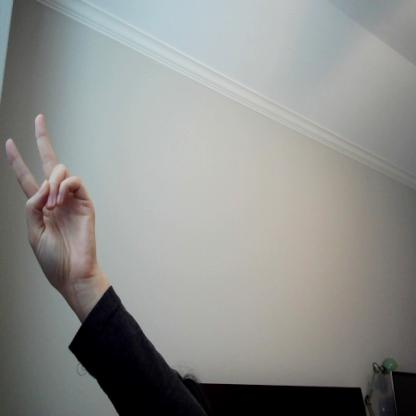two: (2, 110, 96, 284)
